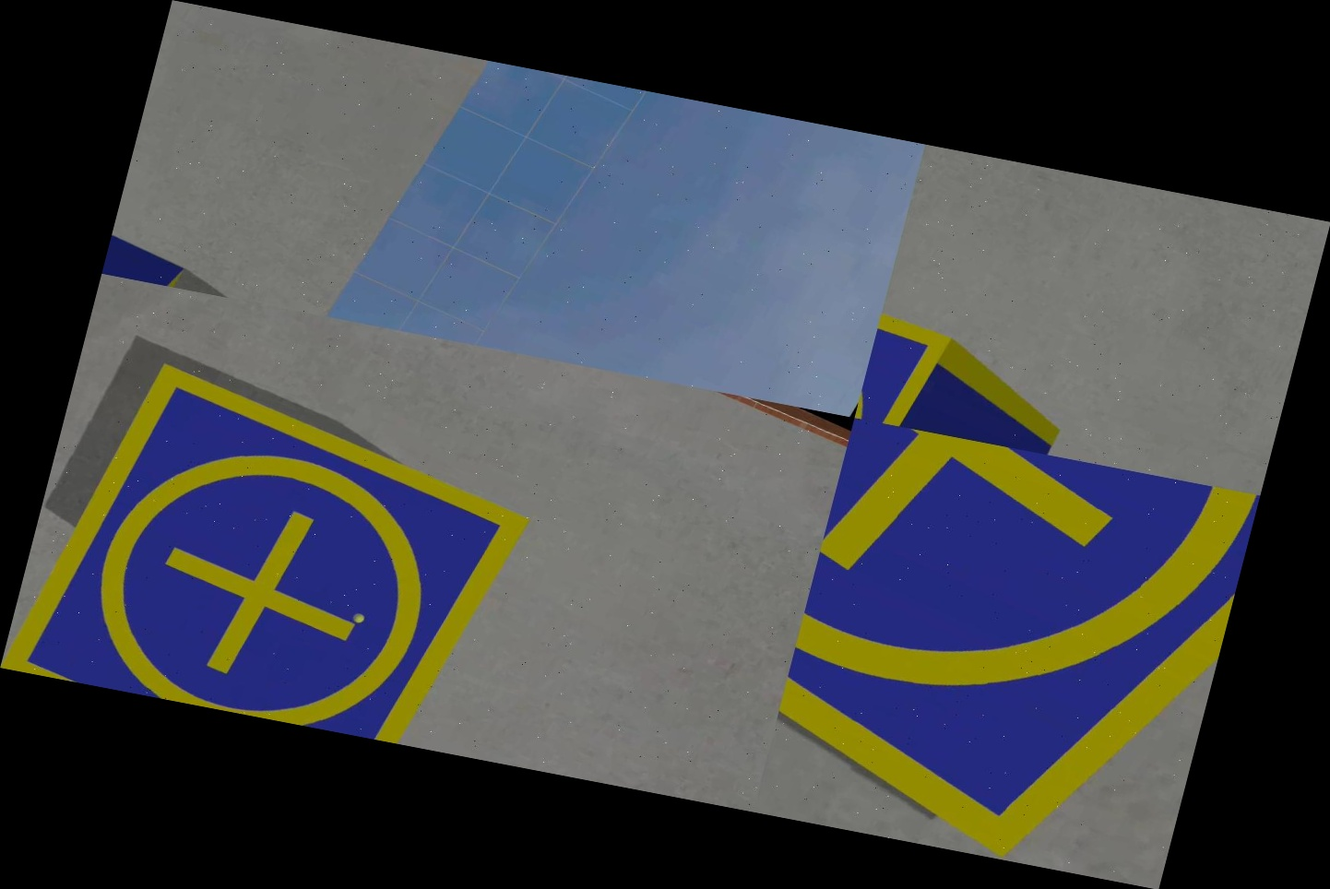small_base: (753, 418, 1259, 889), (0, 339, 552, 757)
